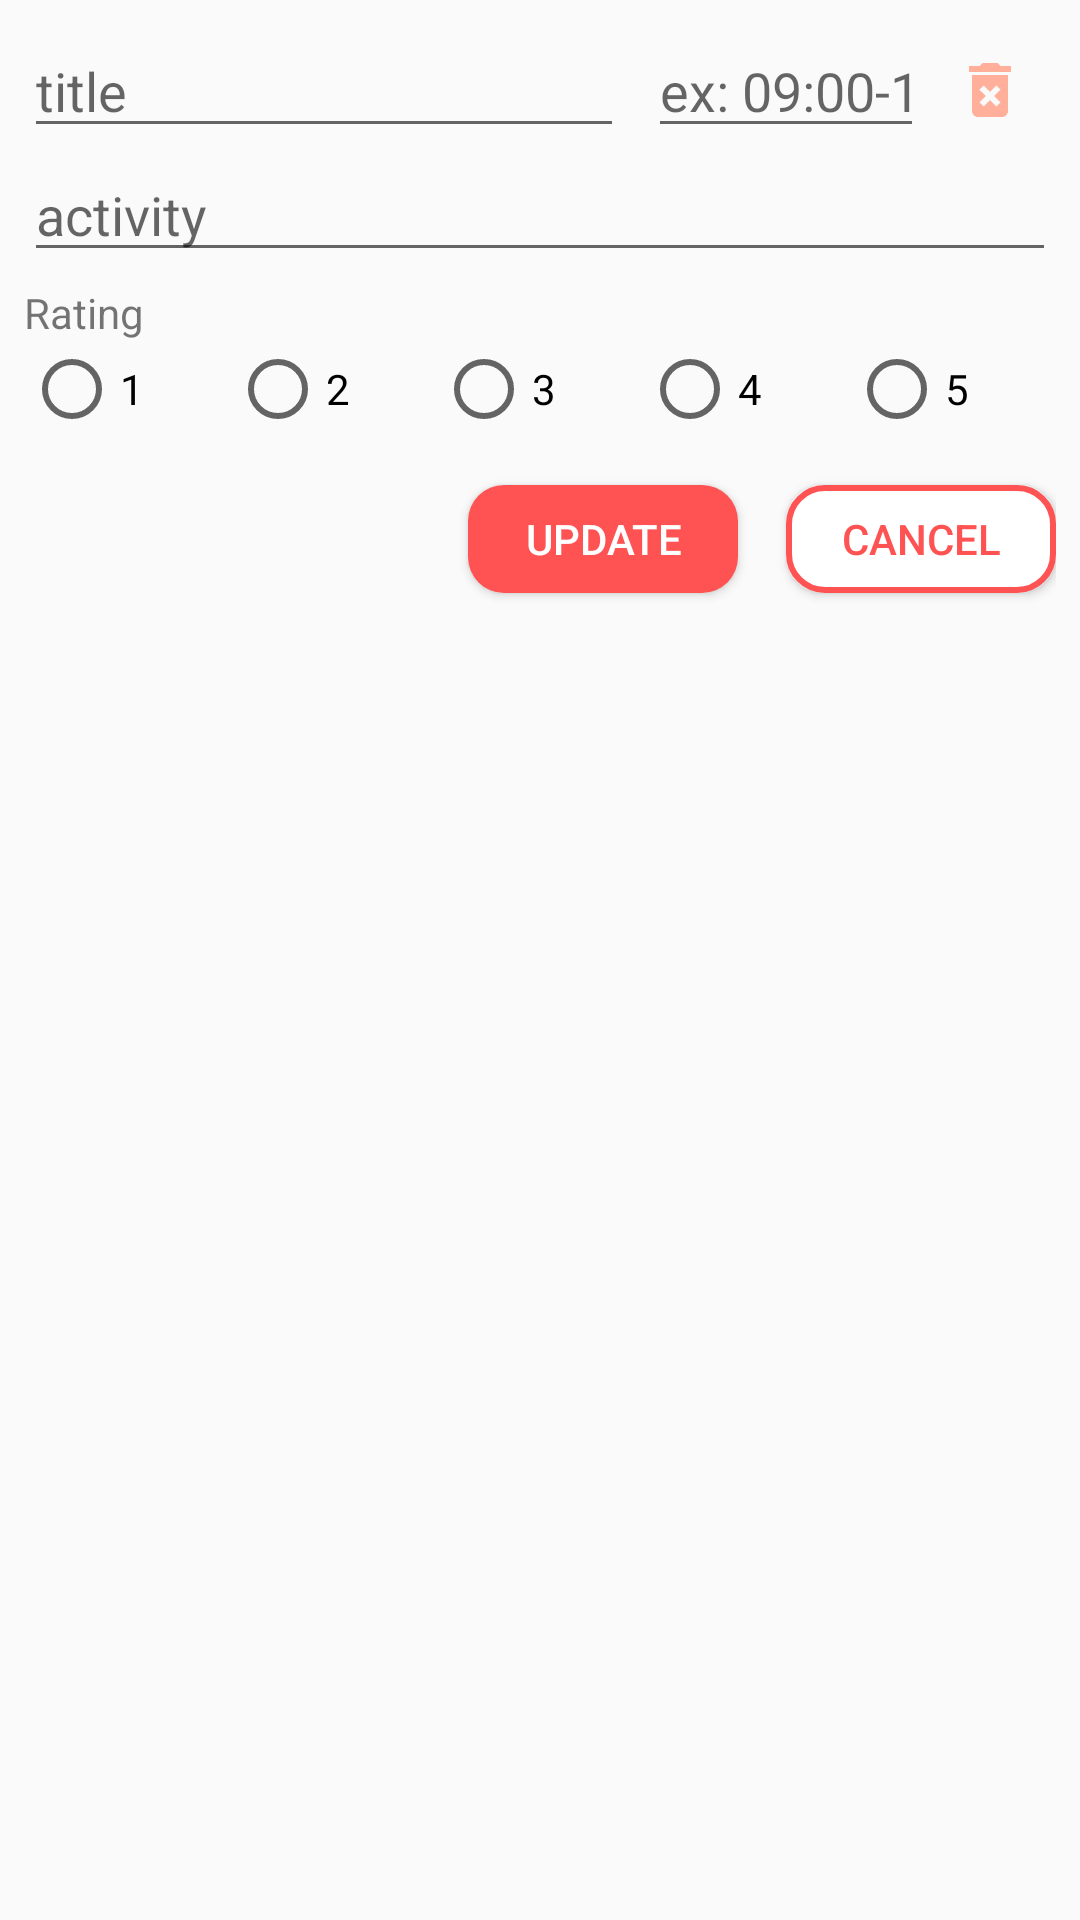

Icons on this 1080 × 1920 Android screen, each with its box as (x1,y1,x2,y2):
delete forever: (969,63,1011,117)
